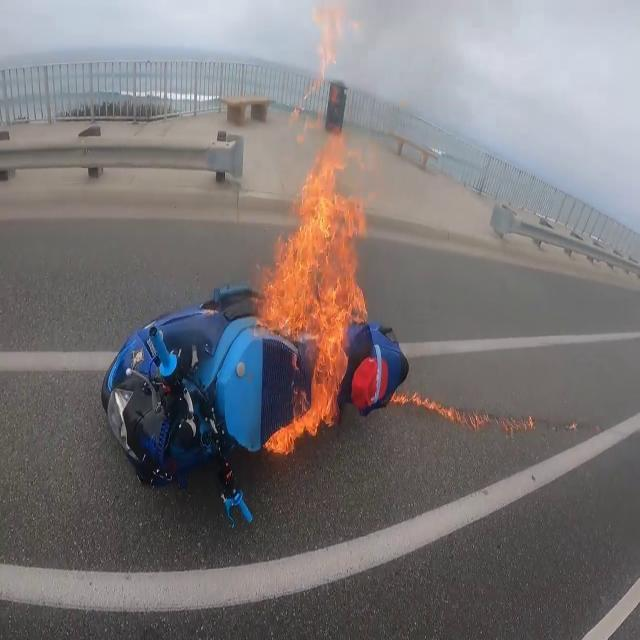Fire: (257, 136, 372, 448)
